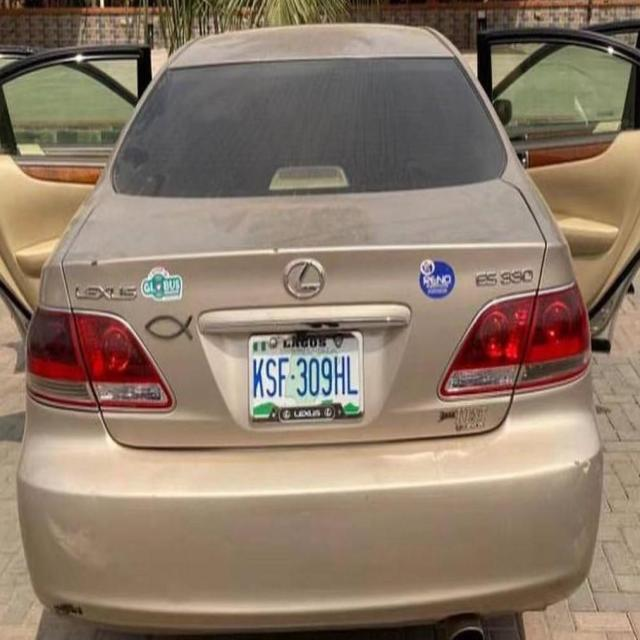Nigerian License Plate - vdataset benjamin-daria: (248, 328, 368, 428)
